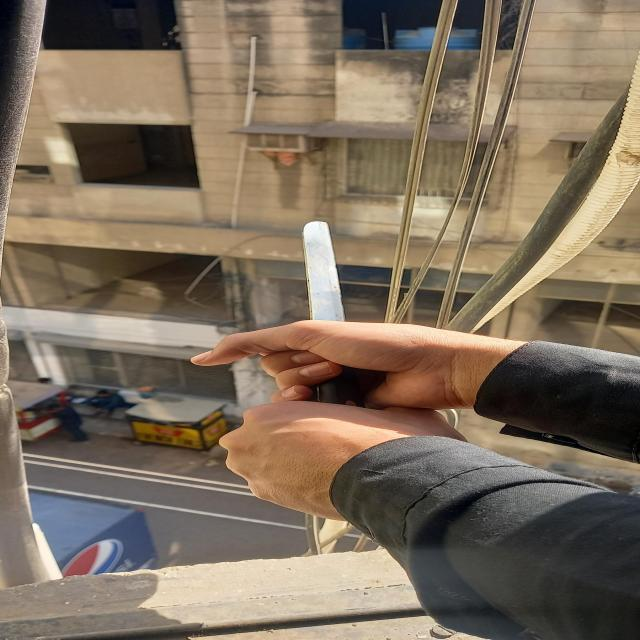faca: (302, 221, 352, 321)
